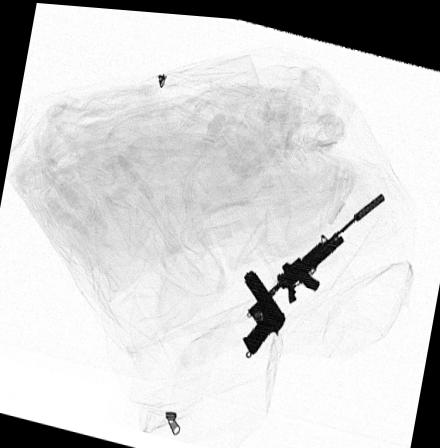Gun: (248, 183, 386, 318), (242, 265, 284, 352)
